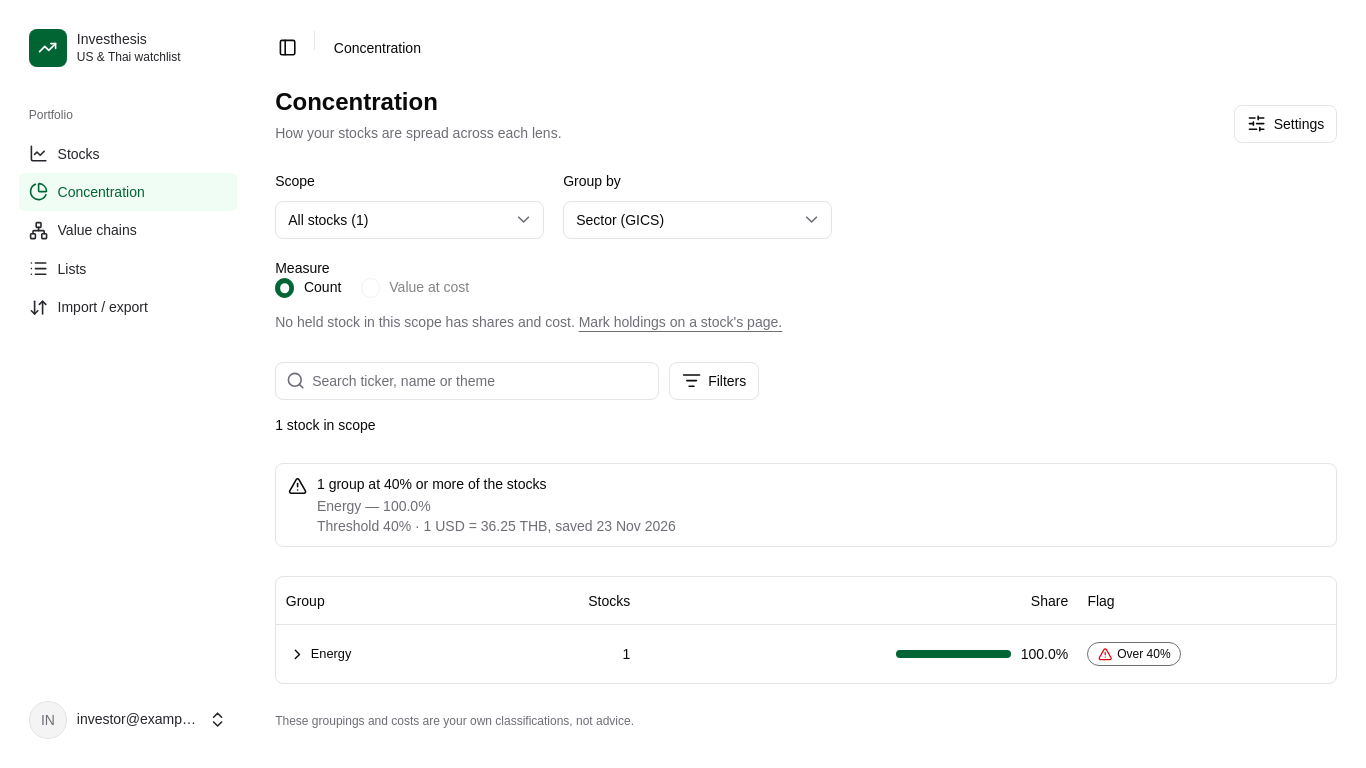
concentration settings dialog › TC-U-483: Clear rate then Save sends null and the help turns into the no-rate text
Expected: the heading "Concentration" is shown, [275,88,438,115]
Click the button "Settings": (1286, 124) [1234,105,1337,143]
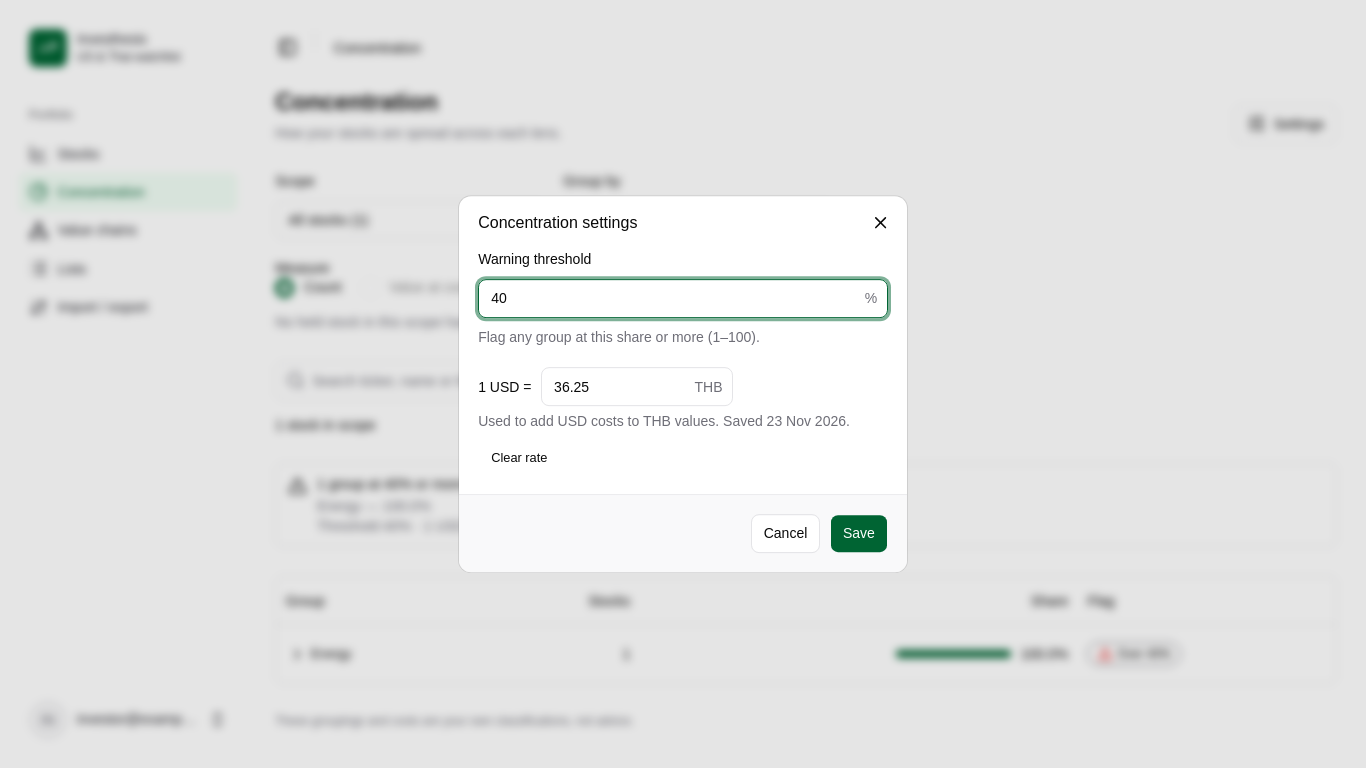
Click the button "Clear rate": (519, 458) [478,441,560,475]
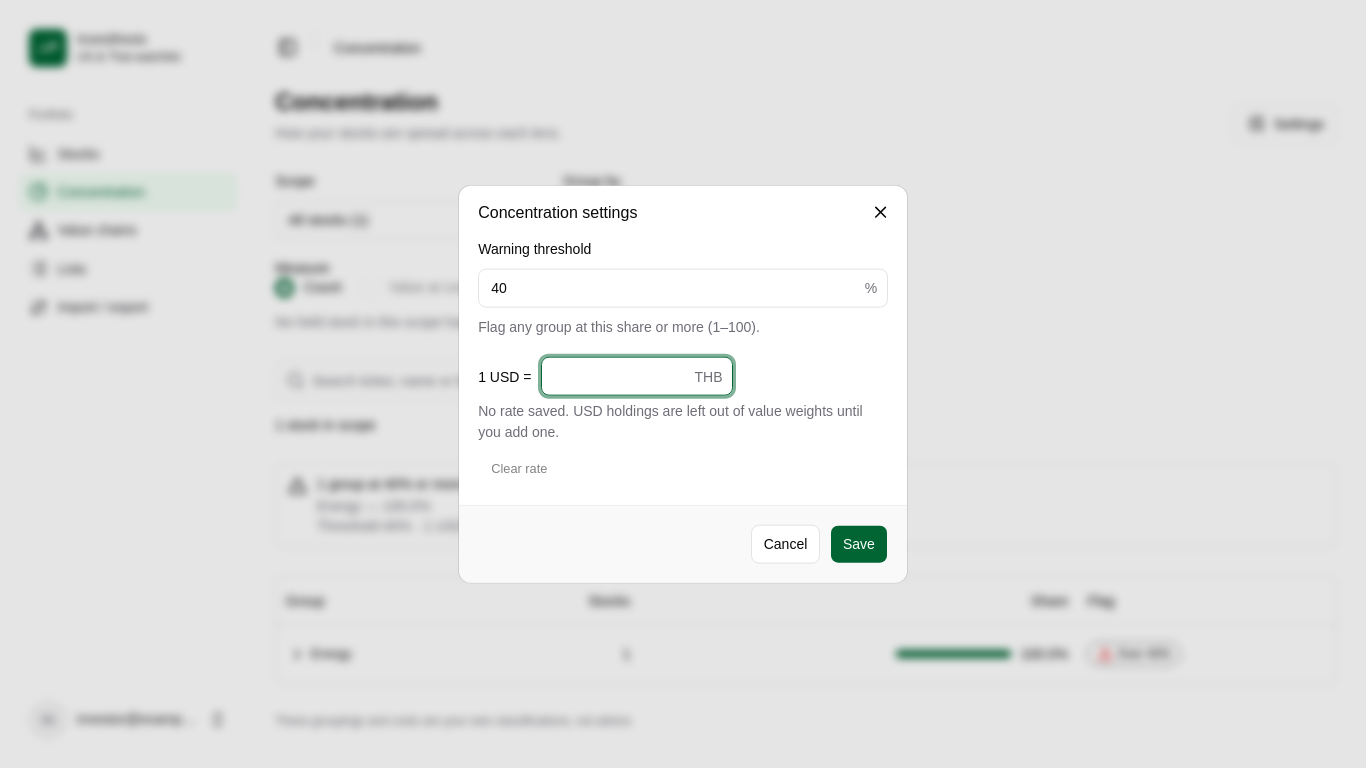
Expected: the field named "Exchange rate, THB per 1 USD" is empty, [542,357,694,395]
Expected: the text "No rate saved. USD holdings are left out of value weights until you add one." is shown, [478,400,888,442]
Click the button "Save": (859, 544) [830,525,888,563]
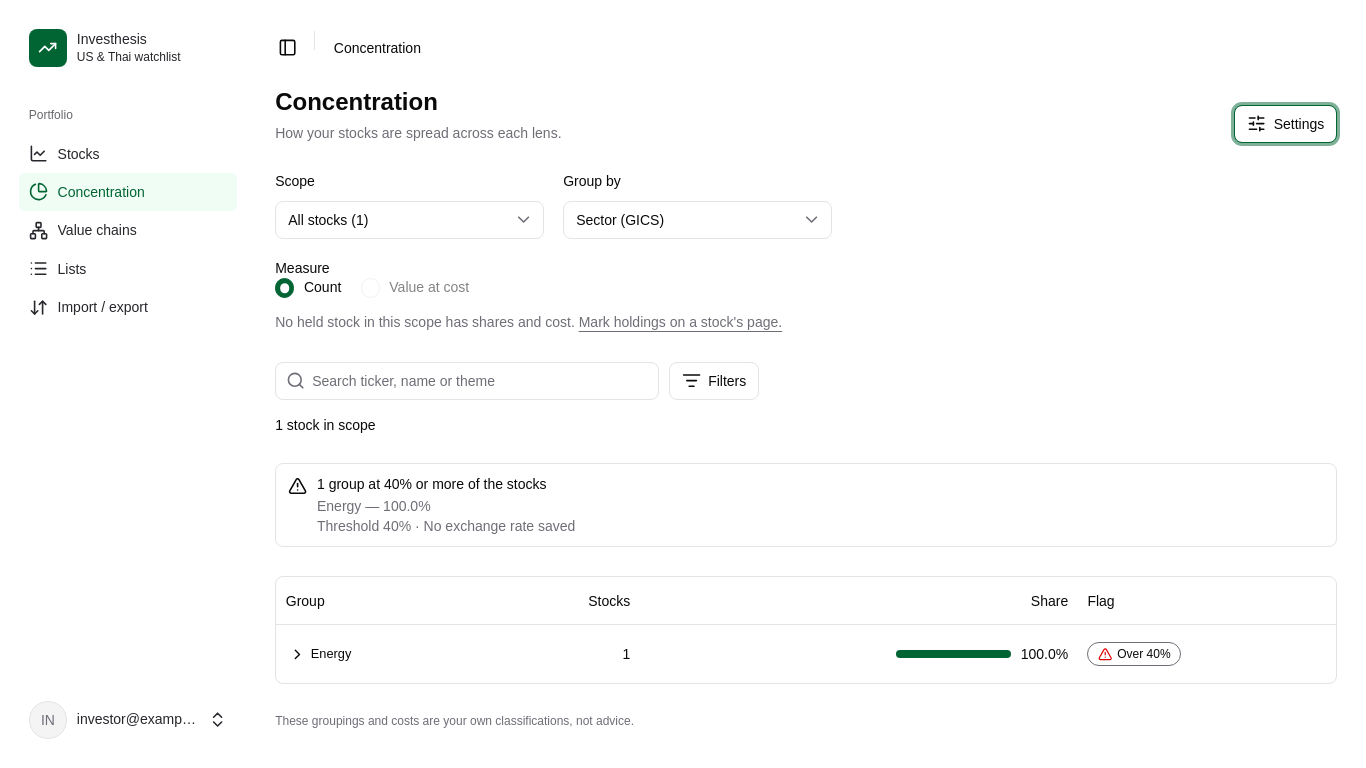
Expected: the dialog is gone
Expected: the text "Threshold 40% · No exchange rate saved" is shown, [317,518,575,534]
